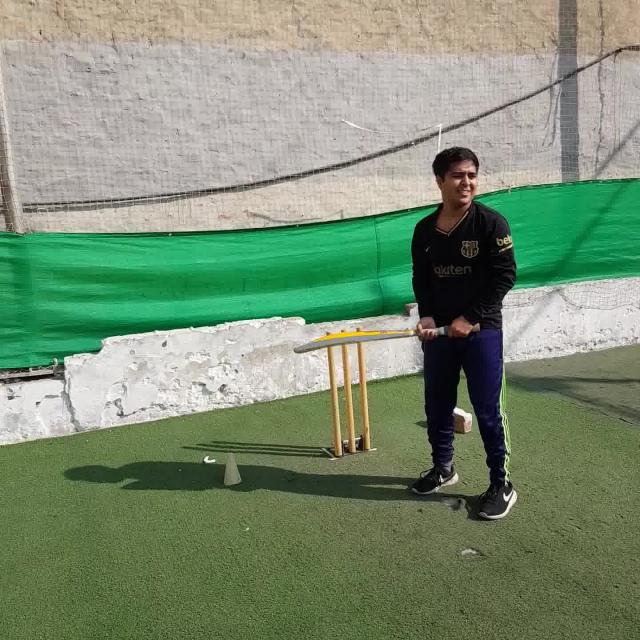bat: (292, 319, 480, 354)
